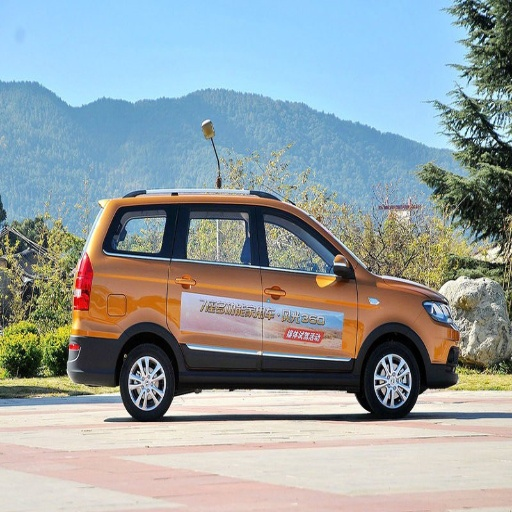back_right_door: (159, 205, 261, 366)
front_right_door: (259, 205, 357, 366)
trunk: (75, 259, 171, 371)
